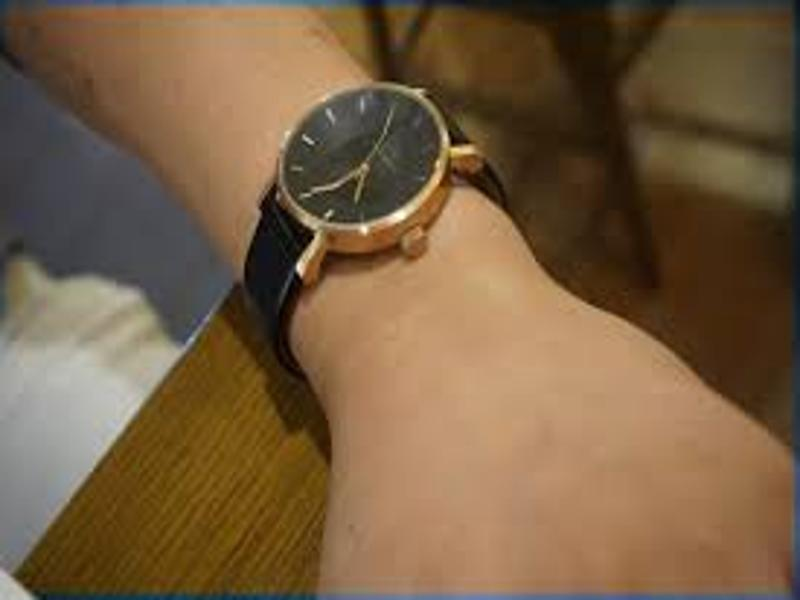watch: (240, 78, 505, 376)
